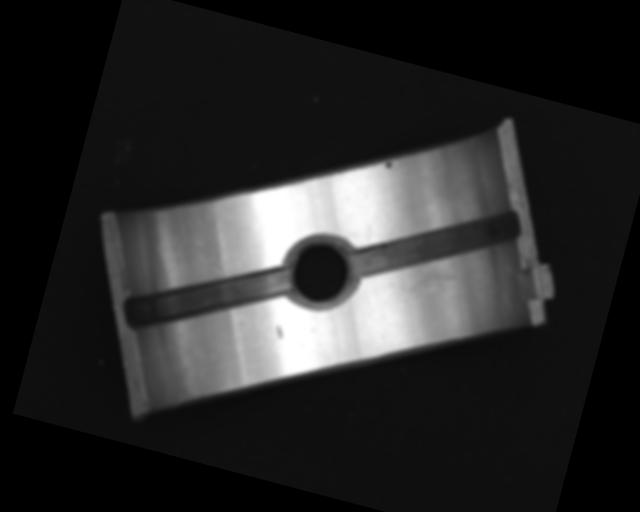blot: (383, 159, 395, 170)
bruise: (272, 324, 285, 340)
gap: (119, 232, 293, 365), (348, 179, 521, 312)
hole: (278, 229, 363, 320)
scratch: (393, 241, 474, 320)
